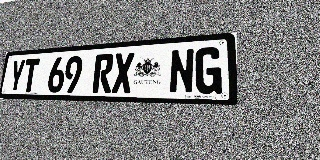6: (47, 57, 67, 93)
9: (63, 56, 83, 93)
G: (195, 46, 222, 94)
N: (169, 48, 195, 94)
R: (92, 53, 114, 93)
T: (21, 58, 40, 92)
X: (112, 52, 135, 93)
Y: (8, 59, 26, 92)
